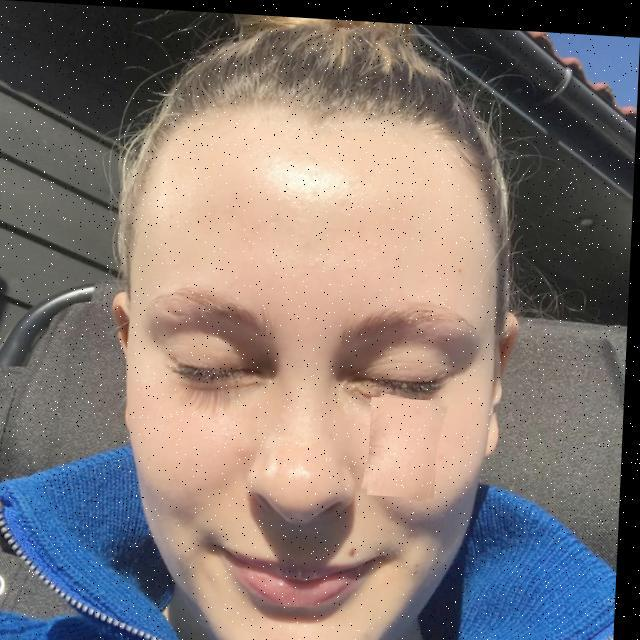redness: (366, 388, 450, 497), (187, 418, 261, 497)
